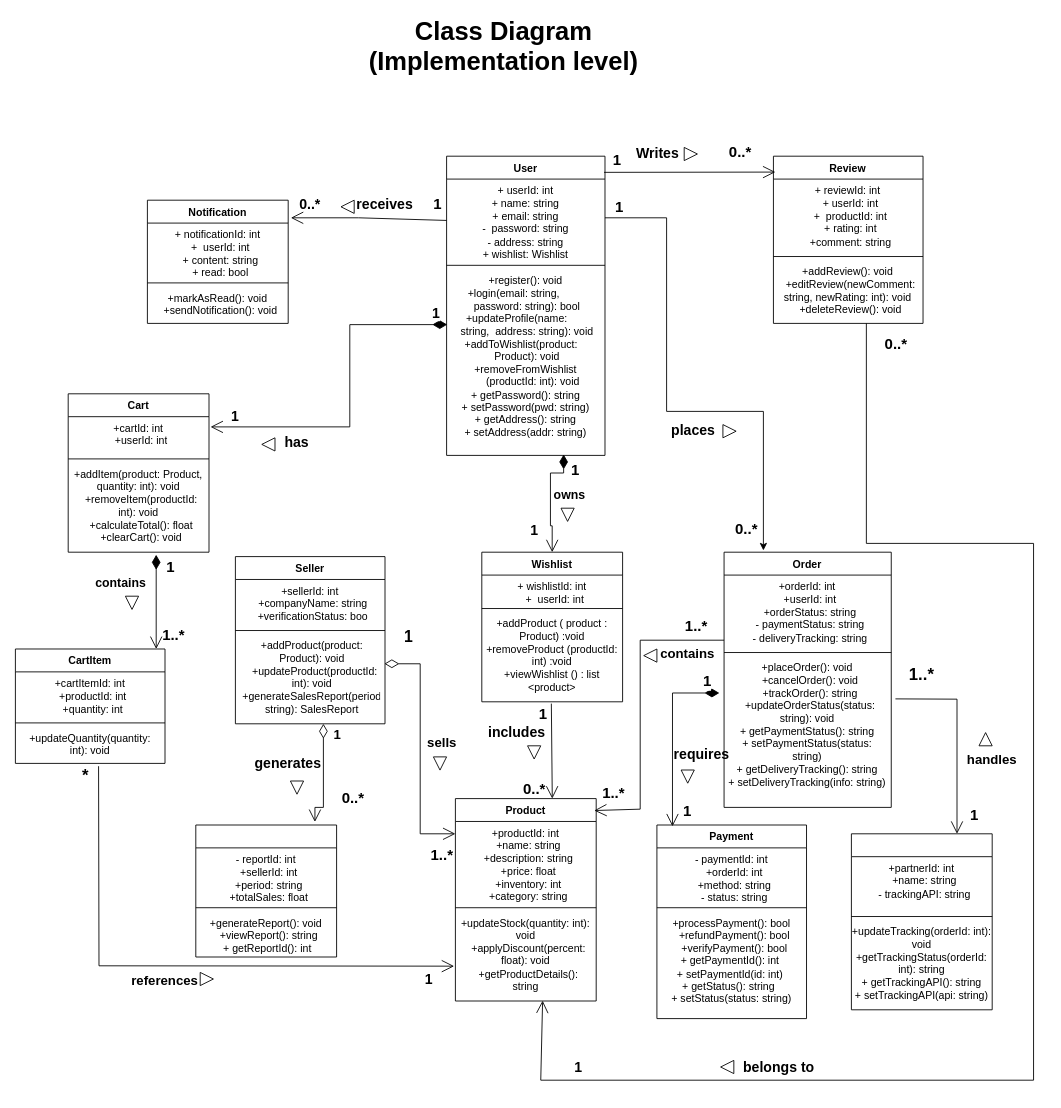
The diagram is 1061 pixels wide and 1108 high, and some of its shapes have lost their labels. The shapes that lost their labels are listed below. From the top down, each one's box as (x1, y1, x2, y2) in pixels, then its label:
(195, 824, 337, 957): SalesReport
(851, 833, 992, 1010): DeliveryPartner
